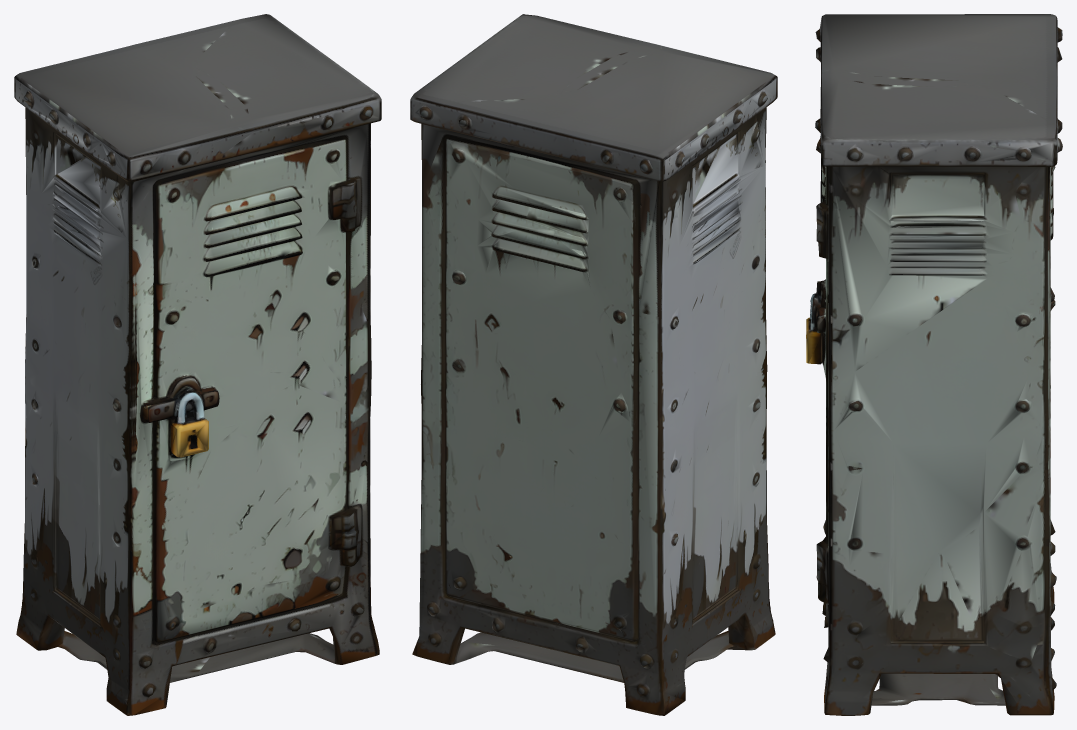
File: lhi_steel_locker.glb
3 views of the same model, side by side, from view 1: azimuth 30°, elevation 25°; view 2: azimuth 150°, elevation 25°; view 3: azimuth 270°, elevation 25° (orthographic). The views are drawn at different scales.
Visible parts, largest first — view 1: material; view 2: material; view 3: material.
Boxes of the visible parts, x1,y1,x2,y2 form: material: (14,14,381,715); material: (410,14,777,715); material: (806,14,1062,715).
Size of the model in its own units: 0.5026 by 1.03 by 0.4145.
Materials: 1 (1 with a texture image).
